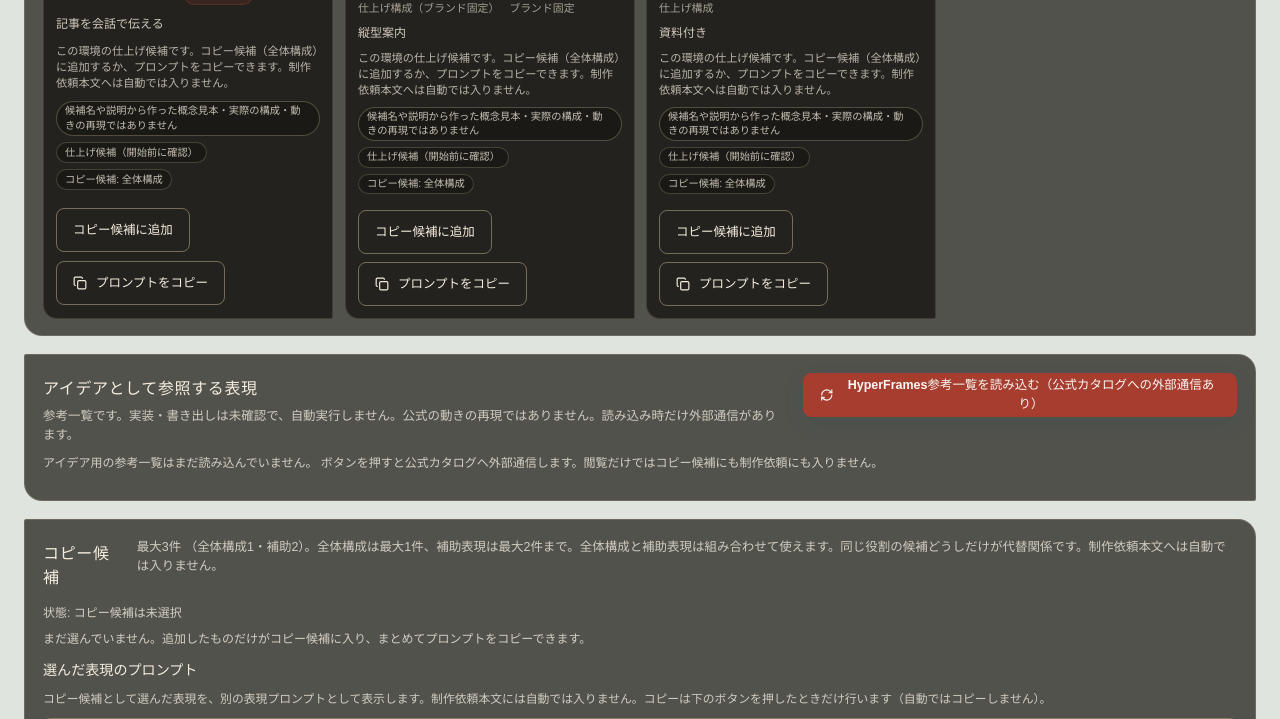
Scenario: ExpressionShelf catalog / filter / empty boundaries › hides header reload button when a later catalog reload fails (single retry control)
The width and height of the screenshot is (1280, 719).
(page scrolled)
Click the button "HyperFrames参考一覧を読み込む（公式カタログへの外部通信あり）": {"x": 1020, "y": 395} [802, 373, 1237, 417]
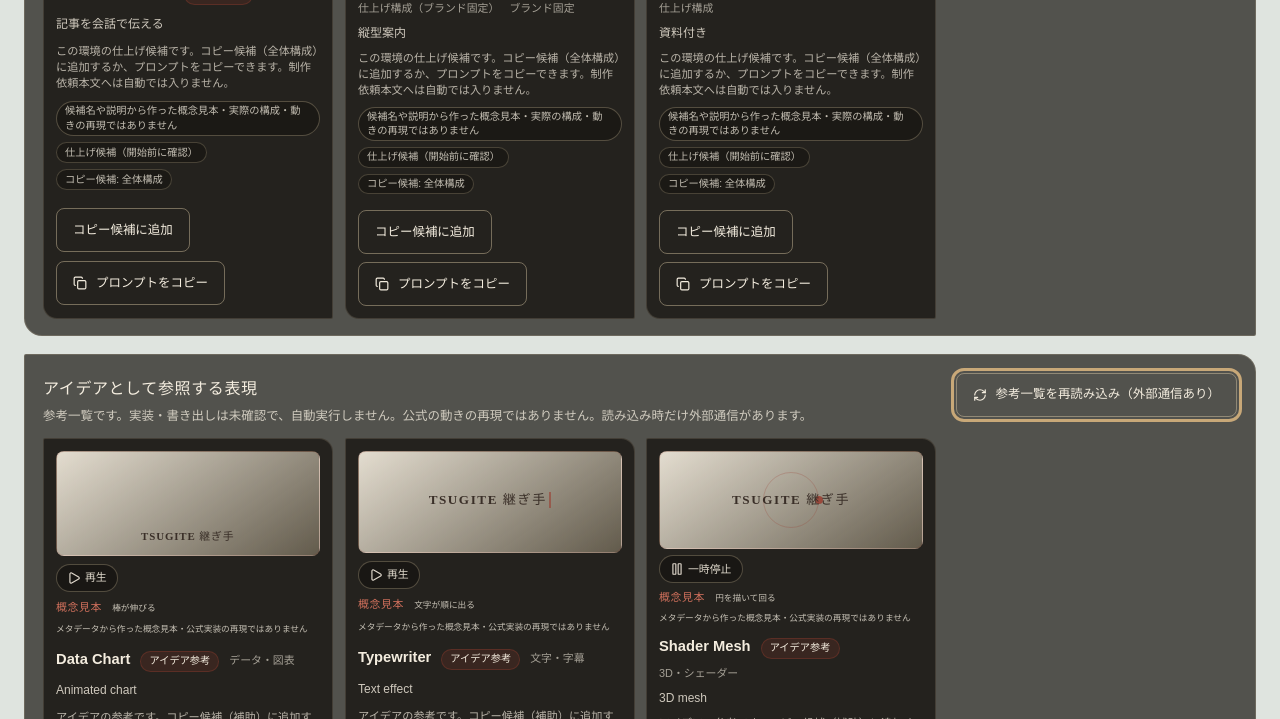
Check: the text "Data Chart" is shown, box [56, 649, 130, 671]
Check: the button "参考一覧を再読み込み（外部通信あり）" is shown
Click the button "参考一覧を再読み込み（外部通信あり）": {"x": 1096, "y": 395} [956, 373, 1237, 417]
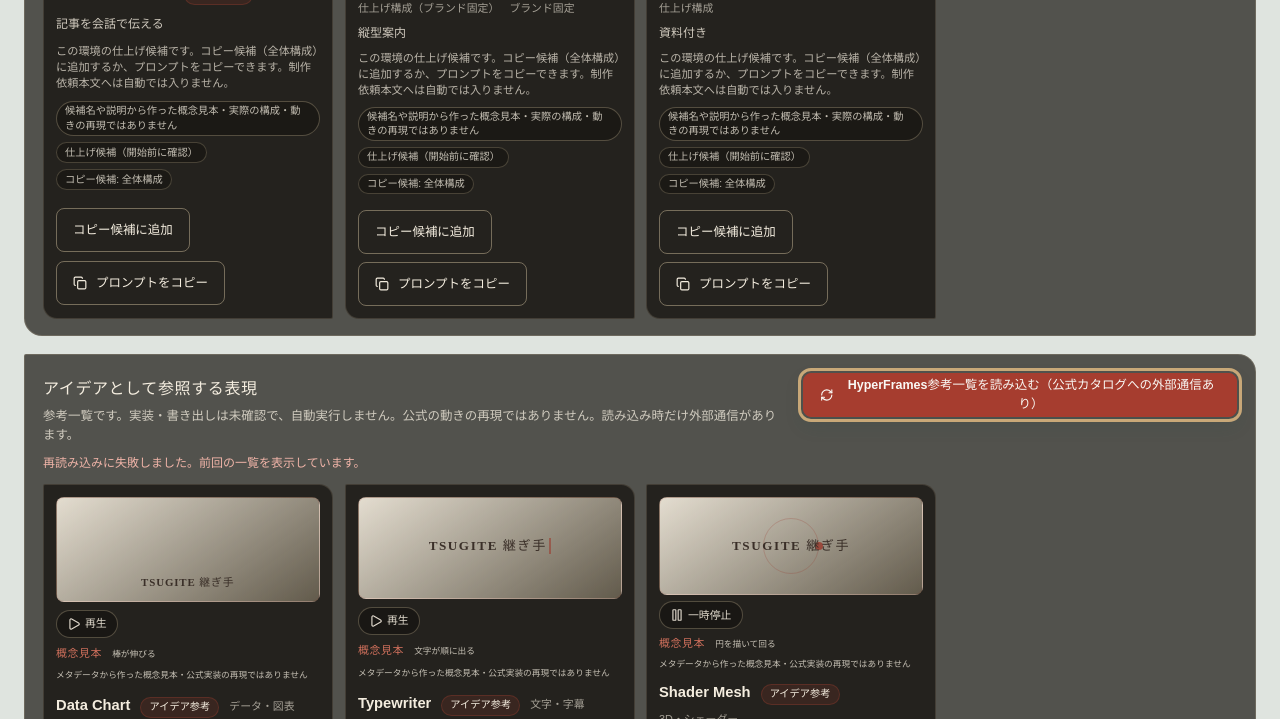
Check: the message reads "再読み込みに失敗しました。前回の一覧を表示しています。", box [43, 456, 366, 470]
Check: the button "参考一覧を再読み込み" is gone
Check: the number of buttons "HyperFrames参考一覧を読み込む（公式カタログへの外部通信あり）" is 1, box [802, 373, 1237, 417]
